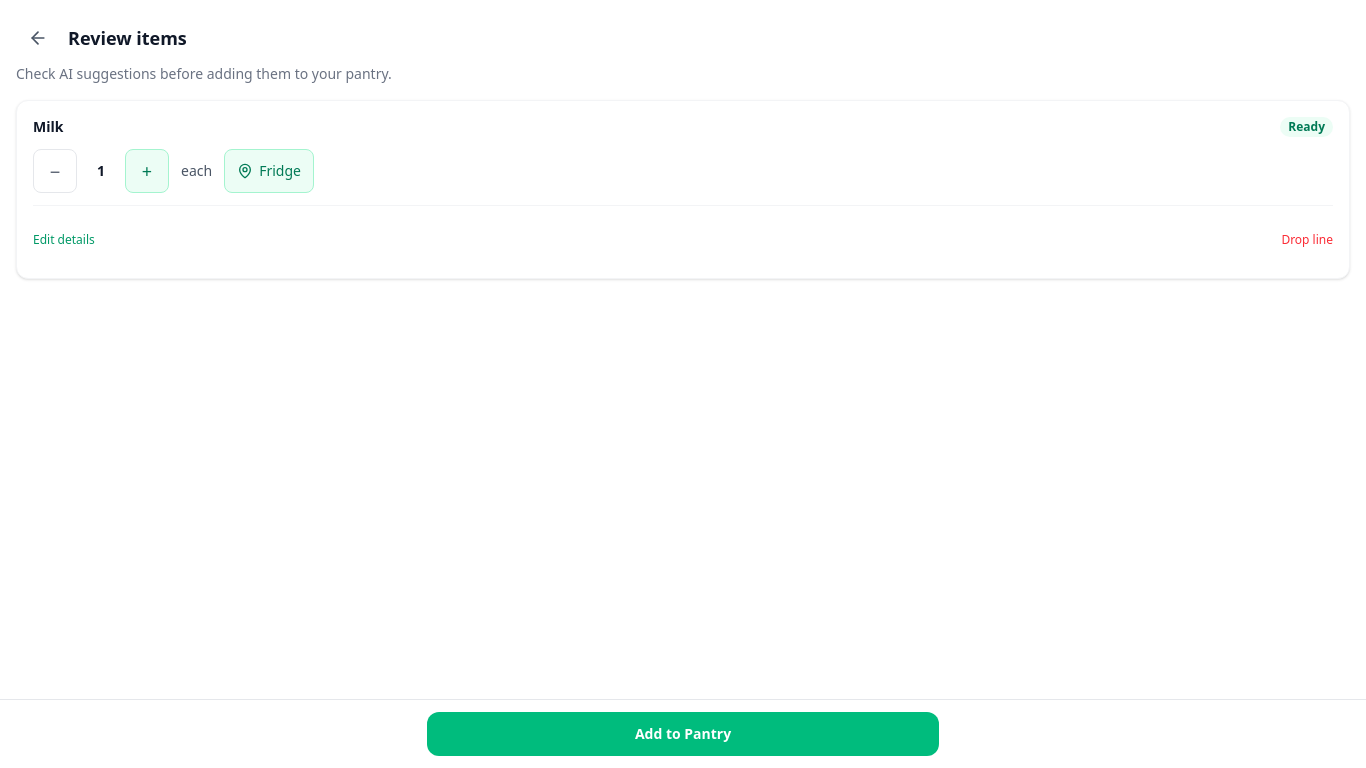
BatchReviewScreen › overlay editing › opens overlay editor for non-inline fields
The image size is (1366, 768).
Click the button "Edit details" at (64, 240), box [33,218,95,262]
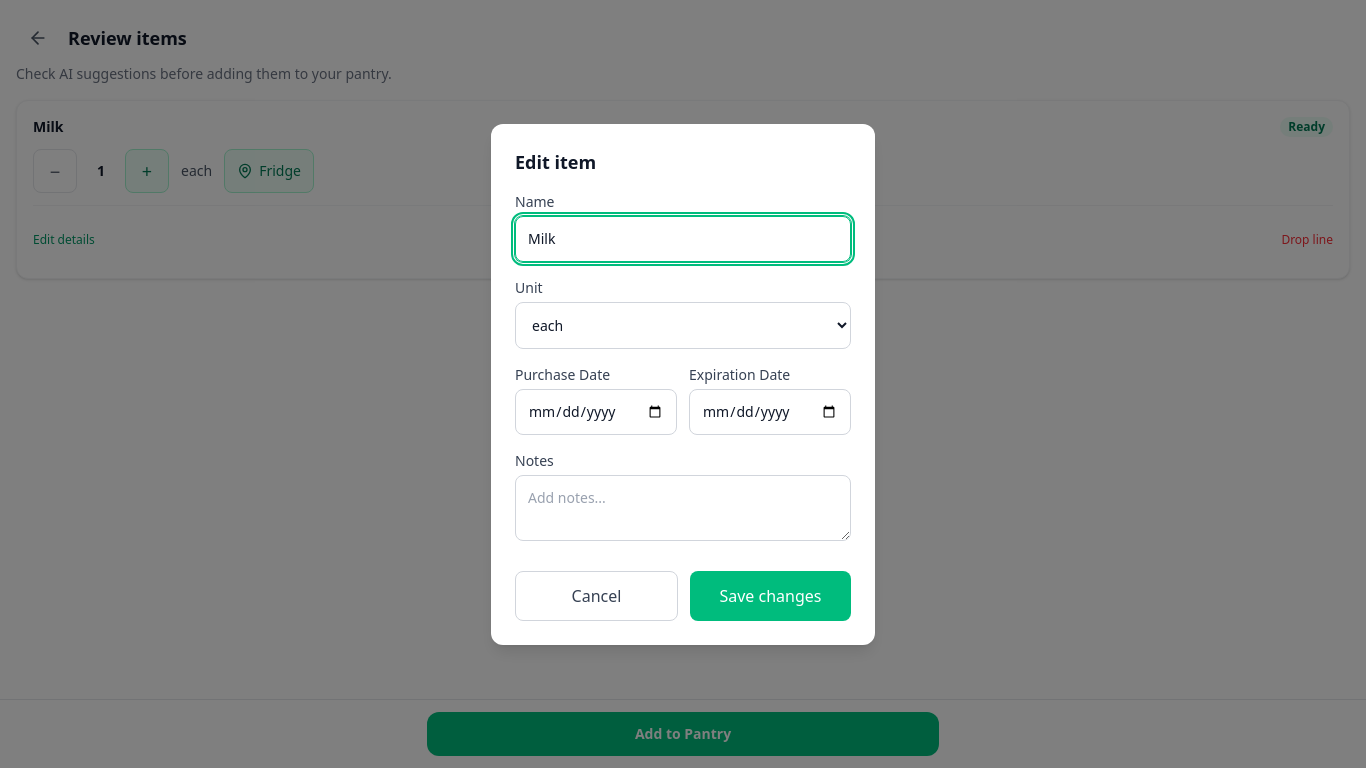
Now the dialog "Edit item" is shown
